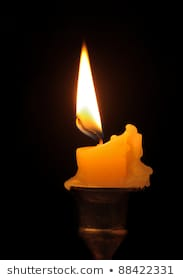Fire: (73, 41, 107, 137)
